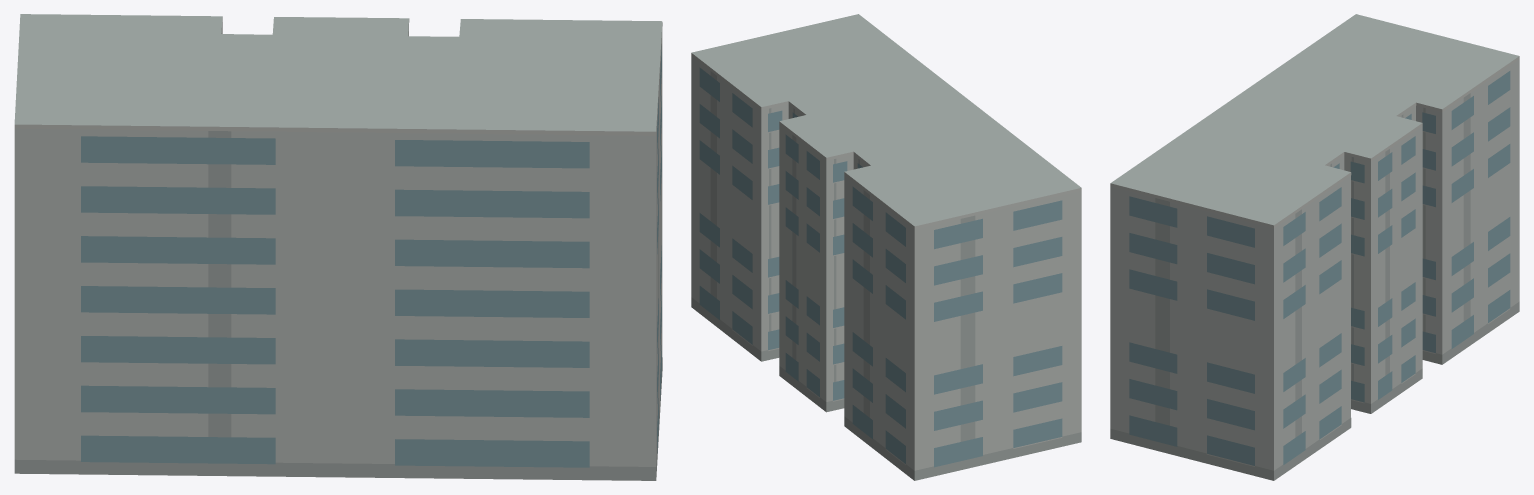
The model's file is survey-upis-32747391.glb.
3 views of the same model, side by side, from view 1: azimuth 30°, elevation 25°; view 2: azimuth 150°, elevation 25°; view 3: azimuth 270°, elevation 25° (orthographic). The views are drawn at different scales.
Visible parts, largest first — view 1: survey-upis-32747391.tmp; view 2: survey-upis-32747391.tmp; view 3: survey-upis-32747391.tmp.
Boxes of the visible parts, left/top/right/bottom form: survey-upis-32747391.tmp: left=14, top=14, right=662, bottom=480; survey-upis-32747391.tmp: left=691, top=14, right=1081, bottom=480; survey-upis-32747391.tmp: left=1110, top=14, right=1519, bottom=480.
Bounding box in the file's own units: 35.48 × 20 × 29.03.
